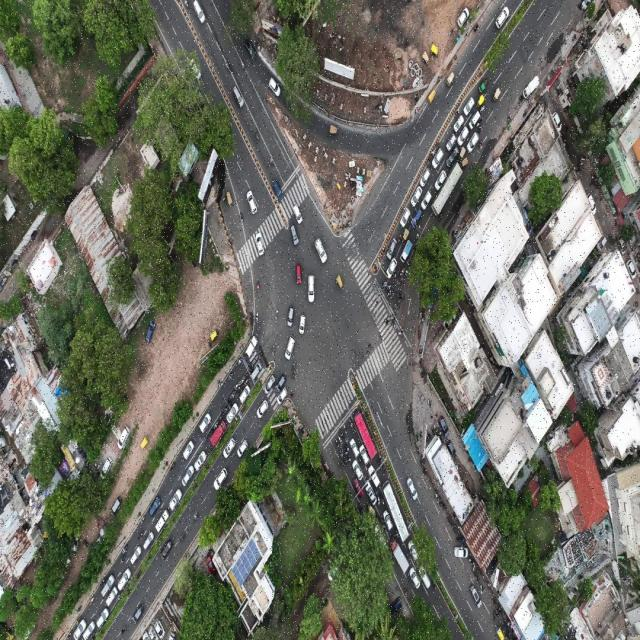3W: (492, 85, 502, 104), (428, 86, 437, 102), (431, 39, 440, 54), (225, 191, 234, 206), (478, 91, 486, 107), (330, 122, 339, 136), (336, 273, 343, 290), (141, 437, 150, 450), (447, 72, 456, 85), (423, 46, 430, 62), (461, 156, 469, 170), (210, 329, 219, 341), (403, 227, 411, 239), (459, 146, 465, 159)
Bus: (381, 482, 410, 540), (433, 163, 463, 218), (356, 407, 378, 458)
Cars: (156, 509, 172, 535), (524, 71, 541, 95), (315, 239, 328, 266), (469, 584, 483, 609), (243, 37, 257, 62), (272, 178, 285, 204), (246, 189, 258, 216), (214, 467, 228, 490), (386, 256, 399, 280), (365, 481, 378, 505), (232, 86, 245, 110), (420, 563, 433, 587), (406, 477, 419, 501), (306, 275, 317, 303), (495, 8, 510, 28), (101, 456, 113, 481), (118, 569, 131, 592), (96, 608, 109, 631), (468, 127, 481, 150), (193, 0, 205, 24), (431, 147, 444, 169), (117, 427, 130, 449), (160, 539, 173, 561), (168, 490, 182, 510), (368, 463, 380, 486), (383, 507, 395, 530), (269, 75, 281, 98), (182, 466, 195, 487), (102, 574, 115, 595), (227, 403, 241, 422), (400, 205, 412, 227), (105, 585, 117, 607), (412, 205, 424, 227), (411, 184, 423, 206), (132, 603, 144, 625), (200, 411, 212, 433), (464, 92, 476, 114), (292, 203, 304, 225), (73, 618, 85, 640), (223, 437, 235, 459), (256, 401, 269, 421), (194, 452, 207, 472), (459, 3, 471, 24), (387, 234, 399, 255), (246, 337, 258, 358), (285, 335, 295, 360), (276, 387, 289, 406), (143, 532, 155, 552), (264, 375, 276, 395), (150, 496, 162, 516), (410, 568, 422, 588), (469, 107, 482, 125), (351, 456, 362, 477), (410, 538, 421, 559), (146, 320, 156, 343), (420, 166, 432, 185), (183, 441, 195, 460), (86, 621, 98, 640), (110, 497, 121, 517), (446, 129, 457, 149), (130, 546, 141, 566), (422, 187, 433, 207), (290, 225, 300, 247), (252, 362, 264, 380), (240, 385, 252, 403), (286, 304, 295, 328), (459, 123, 471, 141), (256, 232, 265, 256), (359, 442, 370, 461), (353, 477, 363, 497), (454, 546, 467, 561), (455, 109, 465, 128), (276, 375, 286, 393), (238, 441, 249, 457), (299, 313, 307, 335), (350, 436, 358, 456), (295, 266, 302, 288)
LCV: (479, 77, 488, 94)
M2W: (273, 308, 279, 323), (254, 128, 260, 143), (256, 280, 262, 295), (224, 60, 231, 72), (379, 492, 385, 505), (381, 278, 387, 291), (337, 433, 344, 444), (474, 18, 479, 33), (398, 231, 404, 243), (193, 512, 199, 524), (121, 623, 127, 635), (401, 263, 407, 274), (480, 103, 486, 114), (478, 139, 484, 150), (393, 271, 400, 280), (179, 532, 186, 541), (217, 380, 224, 389), (230, 393, 236, 403), (387, 284, 393, 294), (378, 451, 384, 461), (171, 462, 176, 474), (122, 544, 128, 554), (477, 114, 482, 126), (237, 354, 242, 366), (98, 578, 105, 586), (88, 597, 95, 605), (349, 416, 354, 427), (344, 435, 349, 446), (347, 444, 352, 455), (344, 455, 349, 466), (270, 154, 275, 165), (240, 212, 245, 223), (244, 375, 250, 384), (249, 366, 255, 375), (382, 462, 388, 471), (140, 516, 146, 525), (138, 529, 144, 538), (119, 556, 125, 565), (478, 125, 484, 134), (229, 371, 233, 384), (334, 436, 339, 446), (339, 426, 344, 436), (238, 381, 243, 391), (384, 313, 389, 323), (398, 328, 403, 338), (344, 450, 350, 458), (399, 276, 404, 285), (220, 404, 226, 411), (207, 431, 213, 438), (427, 156, 431, 166), (392, 323, 397, 331), (439, 213, 443, 223), (344, 421, 348, 430), (340, 448, 344, 457), (236, 394, 240, 402), (397, 289, 401, 297), (395, 298, 399, 306), (391, 313, 395, 321), (416, 232, 420, 240), (257, 353, 262, 359), (390, 293, 395, 299), (220, 413, 224, 420), (396, 529, 400, 536), (235, 383, 239, 390), (375, 486, 378, 493)
MAV: (400, 238, 414, 261)
Truck: (391, 536, 410, 572), (211, 420, 228, 448)
